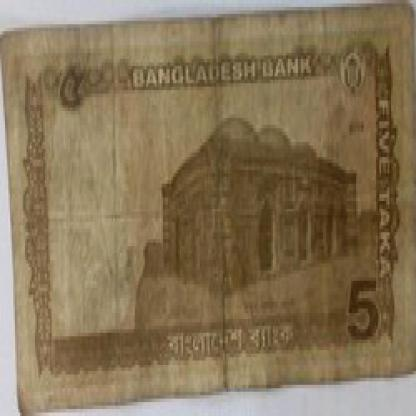Five Taka: (343, 264, 383, 360), (55, 56, 90, 122)
